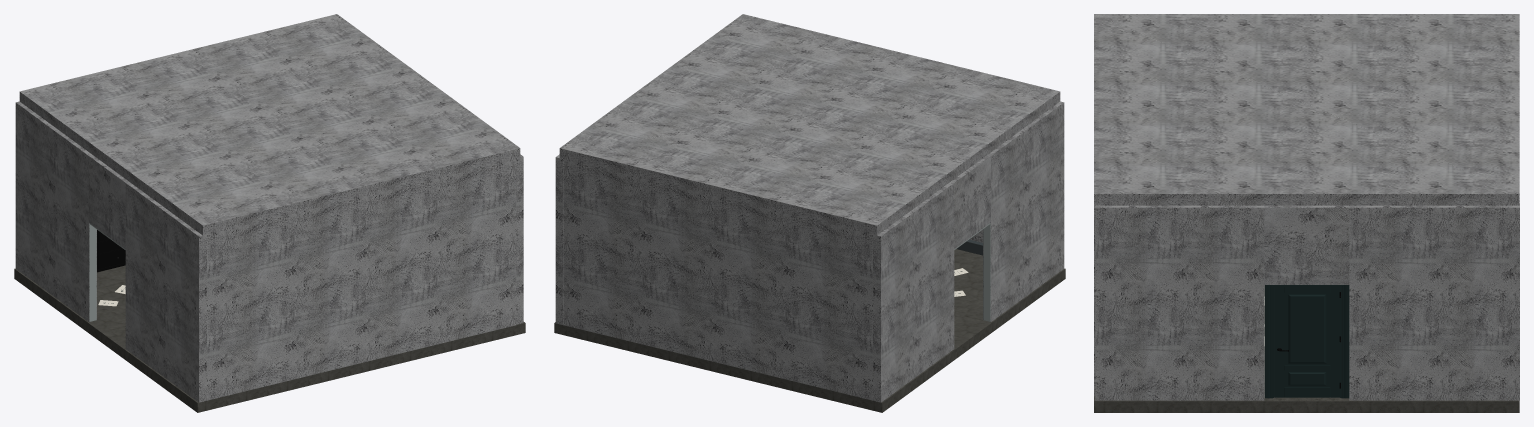
The model's file is SILENT_Room_01_Final.fbx.
3 views of the same model, side by side, from view 1: azimuth 30°, elevation 25°; view 2: azimuth 150°, elevation 25°; view 3: azimuth 270°, elevation 25° (orthographic). The views are drawn at different scales.
Visible parts, largest first — view 1: Room_01_A_Structure, Ceiling.007, Hemnes.Drawer; view 2: Room_01_A_Structure, Ceiling.007; view 3: Ceiling.007, Room_01_A_Structure, dver'.
Boxes of the visible parts, box(x1,y1,x2,y2) form: Room_01_A_Structure: box(14, 101, 525, 412); Ceiling.007: box(19, 14, 520, 235); Hemnes.Drawer: box(97, 230, 125, 272); Room_01_A_Structure: box(554, 101, 1065, 412); Ceiling.007: box(559, 14, 1060, 235); Ceiling.007: box(1094, 14, 1519, 205); Room_01_A_Structure: box(1094, 203, 1519, 412); dver': box(1265, 285, 1349, 398).
Bounding box in the file's own units: 8.26 × 4.48 × 8.
11 materials, 4 textured.
